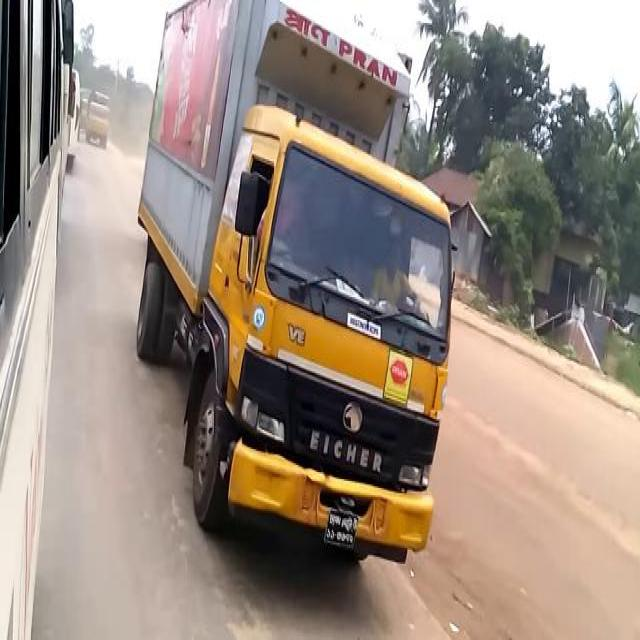18: (134, 4, 456, 562), (84, 88, 110, 147)
Truck: (4, 0, 69, 635)
